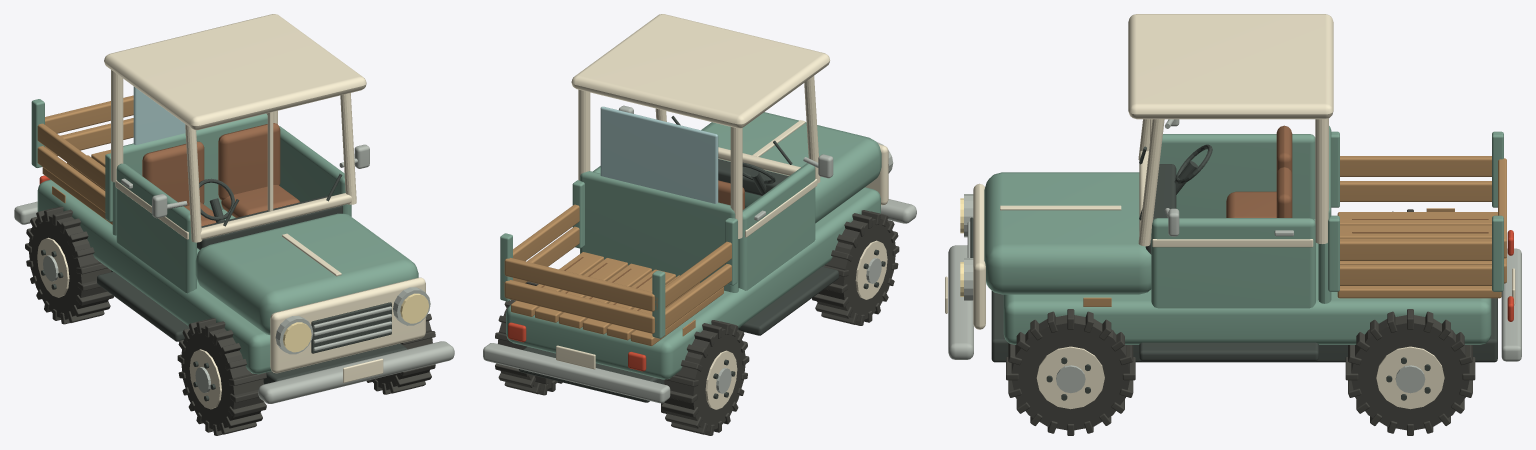
The model's file is farm_pickup.glb.
3 views of the same model, side by side, from view 1: azimuth 30°, elevation 25°; view 2: azimuth 150°, elevation 25°; view 3: azimuth 270°, elevation 25° (orthographic). The views are drawn at different scales.
Parts seen in each view (by area): view 1: PickupBody, Wheel_FL, Wheel_RL, DriverDoor, Wheel_FR; view 2: PickupBody, Wheel_RL, DriverDoor, Wheel_FL, Wheel_RR; view 3: PickupBody, Wheel_FR, Wheel_RR, DriverDoor.
Boxes of the visible parts, x1=… form: PickupBody: x1=14, y1=14, x2=454, y2=403; Wheel_FL: x1=177, y1=318, x2=266, y2=435; Wheel_RL: x1=25, y1=206, x2=113, y2=324; DriverDoor: x1=115, y1=163, x2=196, y2=293; Wheel_FR: x1=366, y1=313, x2=435, y2=394; PickupBody: x1=483, y1=14, x2=916, y2=413; Wheel_RL: x1=661, y1=320, x2=749, y2=435; DriverDoor: x1=738, y1=154, x2=833, y2=290; Wheel_FL: x1=812, y1=210, x2=899, y2=325; Wheel_RR: x1=495, y1=281, x2=562, y2=395; PickupBody: x1=945, y1=14, x2=1521, y2=362; Wheel_FR: x1=1006, y1=309, x2=1135, y2=435; Wheel_RR: x1=1345, y1=309, x2=1475, y2=435; DriverDoor: x1=1159, y1=119, x2=1315, y2=219.
Bounding box in the file's own units: 3.01 × 3.86 × 6.27.
